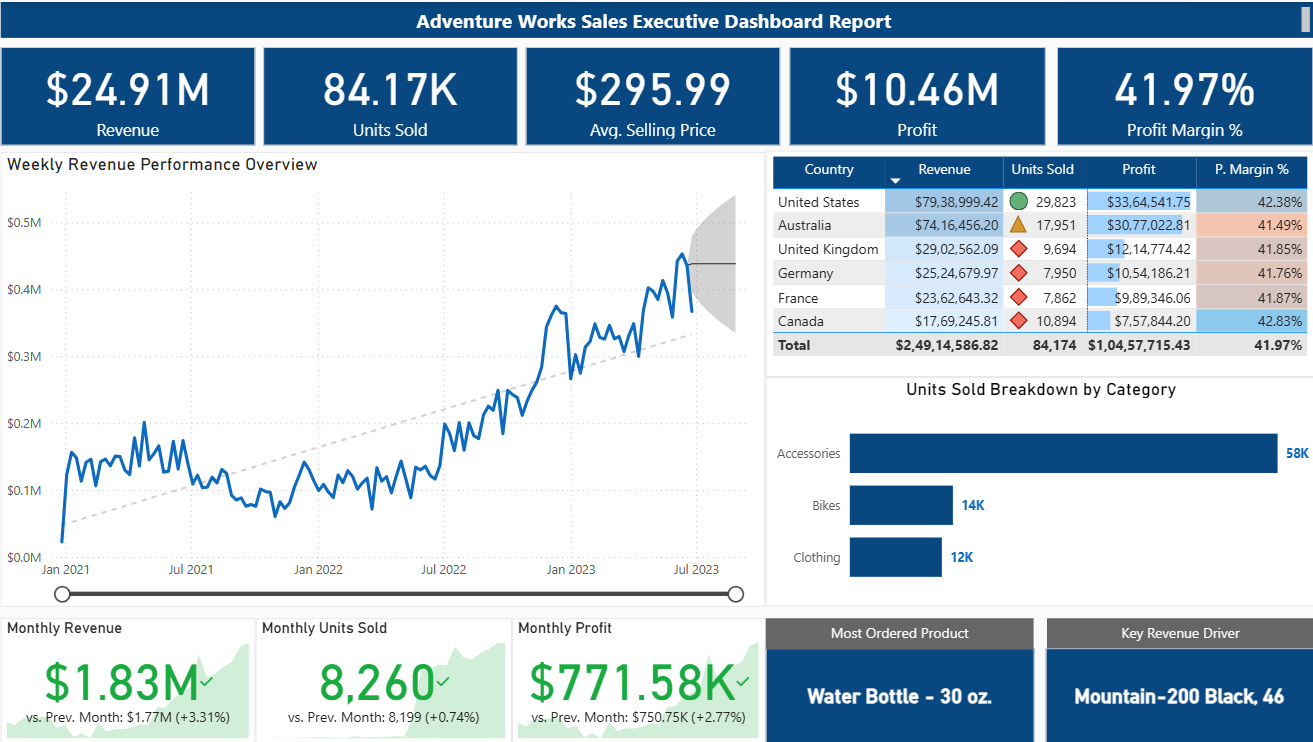

The page's visual inventory and layout, read from the dashboard file:
{"tool":"powerbi","page":{"name":"Sales Dashboard","canvas":[1280,720],"ordinal":0},"visuals":[{"type":"textbox","box":[8.6,0,1260,34.3],"z":0},{"type":"card","fields":{"Values":["fSales.Total Units Sold"]},"box":[260,42.9,244.3,94.3],"z":1000},{"type":"card","fields":{"Values":["fSales.Total Revenue"]},"box":[8.6,42.9,244.3,94.3],"z":2000},{"type":"card","fields":{"Values":["fSales.Avg. Selling Price"]},"box":[511.4,42.9,244.3,94.3],"z":3000},{"type":"card","fields":{"Values":["fSales.Total Profit"]},"box":[764.3,42.9,245.7,94.3],"z":4000},{"type":"card","fields":{"Values":["_Measures.Profit Margin %"]},"box":[1021.4,42.9,245.7,94.3],"z":5000},{"type":"lineChart","title":"Weekly Revenue Performance Overview","fields":{"Category":["dCalendar.Start of Week"],"Y":["_Measures.Total Revenue"]},"box":[8.6,144.3,732.9,435.7],"z":6000},{"type":"kpi","title":"Monthly Revenue","fields":{"Indicator":["_Measures.Total Revenue"],"TrendLine":["dCalendar.Start of Month"],"Goal":["_Measures.Previous Month Revenue"]},"box":[8.6,591.4,244.3,121.4],"z":7000},{"type":"kpi","title":"Monthly Units Sold","fields":{"TrendLine":["dCalendar.Start of Month"],"Indicator":["_Measures.Total Units Sold"],"Goal":["_Measures.Previous Month Units Sold"]},"box":[252.9,591.4,245.7,121.4],"z":8000},{"type":"kpi","title":"Monthly Profit","fields":{"TrendLine":["dCalendar.Start of Month"],"Indicator":["_Measures.Total Profit"],"Goal":["_Measures.Previous Month Profit"]},"box":[498.6,591.4,242.9,121.4],"z":9000},{"type":"tableEx","fields":{"Values":["dTerritories.Country","_Measures.Total Revenue","_Measures.Total Units Sold","_Measures.Total Profit","_Measures.Profit Margin %"]},"box":[741.4,142.9,527.1,217.1],"z":10000},{"type":"clusteredBarChart","title":"Units Sold Breakdown by Category","fields":{"Category":["dProductCategories.CategoryName"],"Y":["_Measures.Total Units Sold"]},"box":[741.4,360,527.1,220],"z":11000},{"type":"card","fields":{"Values":["Min(dProducts.ProductName)"]},"box":[741.8,620,257.3,92.7],"z":12000},{"type":"card","fields":{"Values":["Min(dProducts.ProductName)"]},"box":[1010.9,620,257.3,92.7],"z":13000},{"type":"textbox","box":[741.5,590.8,256.9,29.2],"z":14000},{"type":"textbox","box":[1012,591,256,29],"z":15000}]}

Visuals, with their boxes in screenshot pixels (x1, y1, x2, y2), scaled from the page's 1280x720 canvas onto the 1313x742 screenshot:
textbox: region(9, 0, 1301, 35)
card - fSales.Total Units Sold: region(267, 44, 517, 141)
card - fSales.Total Revenue: region(9, 44, 259, 141)
card - fSales.Avg. Selling Price: region(525, 44, 775, 141)
card - fSales.Total Profit: region(784, 44, 1036, 141)
card - _Measures.Profit Margin %: region(1048, 44, 1300, 141)
"Weekly Revenue Performance Overview" lineChart: region(9, 149, 761, 598)
"Monthly Revenue" kpi: region(9, 609, 259, 735)
"Monthly Units Sold" kpi: region(259, 609, 511, 735)
"Monthly Profit" kpi: region(511, 609, 761, 735)
tableEx - dTerritories.Country x _Measures.Total Revenue: region(761, 147, 1301, 371)
"Units Sold Breakdown by Category" clusteredBarChart: region(761, 371, 1301, 598)
card - Min(dProducts.ProductName): region(761, 639, 1025, 734)
card - Min(dProducts.ProductName): region(1037, 639, 1301, 734)
textbox: region(761, 609, 1024, 639)
textbox: region(1038, 609, 1301, 639)
